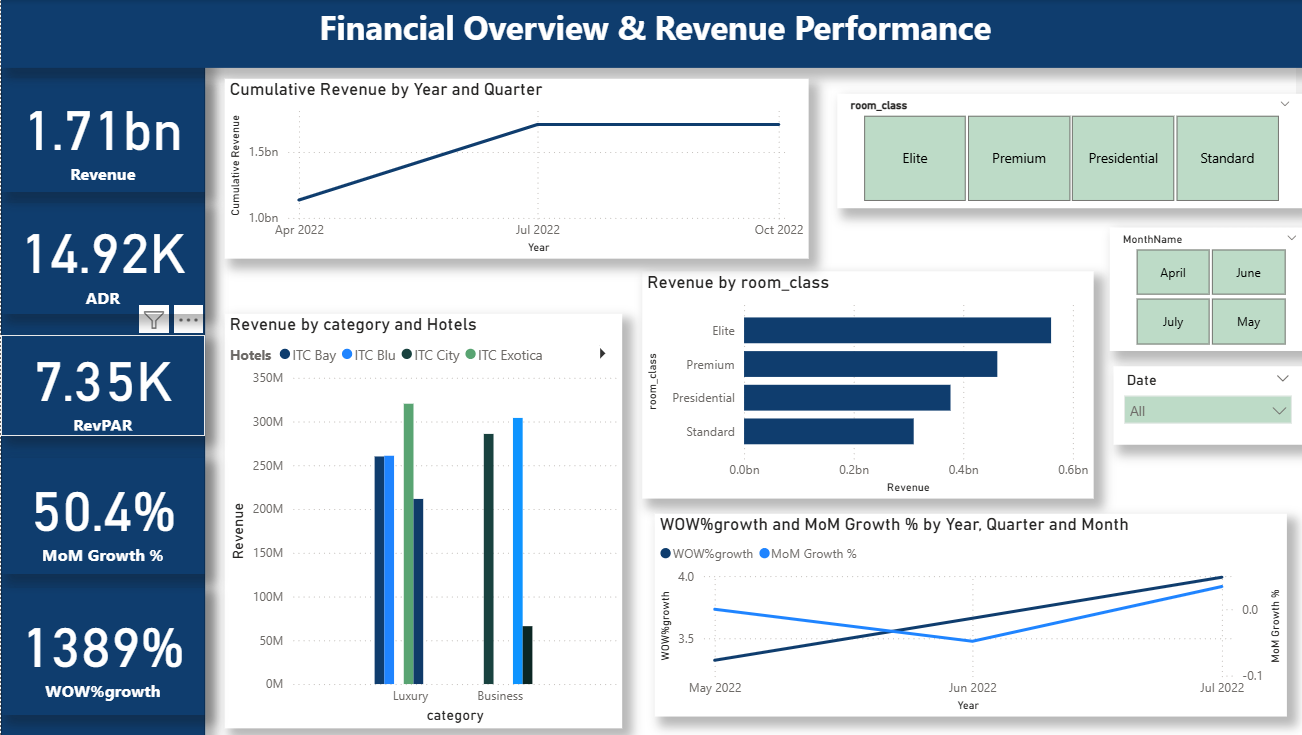

What the dashboard file says about the page in this screenshot:
{"tool":"powerbi","page":{"name":"financial overview","canvas":[1280,720],"ordinal":0},"visuals":[{"type":"shape","box":[0,4.5,199.7,715.4],"z":0},{"type":"card","fields":{"Values":["Measure Table (2).Revenue"]},"box":[0,76,199.7,111.8],"z":1000},{"type":"slicer","fields":{"Values":["calender .Year"]},"box":[1267,62.1,13.3,13.3],"z":2000},{"type":"clusteredColumnChart","fields":{"Y":["Measure Table (2).Revenue"],"Category":["hotels.category"],"Series":["hotels.property_name"]},"box":[218.9,306.9,388.9,406],"z":3000},{"type":"barChart","fields":{"Category":["rooms.room_class"],"Y":["Measure Table (2).Revenue"]},"box":[627.3,265.4,441.4,222.6],"z":4000},{"type":"card","fields":{"Values":["Measure Table (2).RevPAR"]},"box":[0,327.9,199.7,98.4],"z":5000},{"type":"card","fields":{"Values":["Measure Table (2).Avg_daily_rate"]},"box":[0,198.2,199.7,108.8],"z":6000},{"type":"textbox","box":[0,4.1,670.6,55.5],"z":7000},{"type":"textbox","box":[0,0,1280,66.4],"z":8000},{"type":"card","fields":{"Values":["Measure Table (2).MOM%growth"]},"box":[0,447.1,199.7,113.3],"z":9000},{"type":"card","fields":{"Values":["Measure Table (2).WOW%growth"]},"box":[0,575.3,199.7,125.2],"z":10000},{"type":"lineChart","fields":{"Category":["Calendar.Date.Variation.Date Hierarchy.Year","Calendar.Date.Variation.Date Hierarchy.Quarter","Calendar.Date.Variation.Date Hierarchy.Month","Calendar.Date.Variation.Date Hierarchy.Day"],"Y":["Measure Table (2).WOW%growth"],"Y2":["Measure Table (2).MoM Growth %"]},"box":[640.1,502.1,618.8,198.3],"z":11000},{"type":"slicer","fields":{"Values":["rooms.room_class"]},"box":[818.4,91.6,455.6,111.7],"z":12000},{"type":"slicer","fields":{"Values":["Calendar.MonthName"]},"box":[1084.3,222.6,195.7,121.1],"z":13000},{"type":"slicer","fields":{"Values":["Calendar.Date"]},"box":[1088.3,358.3,184.6,77],"z":14000},{"type":"lineChart","fields":{"Category":["Calendar.Date.Variation.Date Hierarchy.Year","Calendar.Date.Variation.Date Hierarchy.Quarter","Calendar.Date.Variation.Date Hierarchy.Month","Calendar.Date.Variation.Date Hierarchy.Day"],"Y":["Measure Table (2).Cumulative Revenue"]},"box":[218.9,77,571.1,176.1],"z":15000}]}

Visuals, with their boxes in screenshot pixels (x1, y1, x2, y2), scaled from the page's 1280x720 canvas onto the 1302x735 screenshot:
shape: <region>0, 5, 203, 734</region>
card - Measure Table (2).Revenue: <region>0, 78, 203, 192</region>
slicer - calender .Year: <region>1289, 63, 1301, 77</region>
clusteredColumnChart - Measure Table (2).Revenue x hotels.category: <region>223, 313, 618, 728</region>
barChart - rooms.room_class x Measure Table (2).Revenue: <region>638, 271, 1087, 498</region>
card - Measure Table (2).RevPAR: <region>0, 335, 203, 435</region>
card - Measure Table (2).Avg_daily_rate: <region>0, 202, 203, 313</region>
textbox: <region>0, 4, 682, 61</region>
textbox: <region>0, 0, 1301, 68</region>
card - Measure Table (2).MOM%growth: <region>0, 456, 203, 572</region>
card - Measure Table (2).WOW%growth: <region>0, 587, 203, 715</region>
lineChart - Calendar.Date.Variation.Date Hierarchy.Year x Calendar.Date.Variation.Date Hierarchy.Quarter: <region>651, 513, 1281, 715</region>
slicer - rooms.room_class: <region>832, 94, 1296, 208</region>
slicer - Calendar.MonthName: <region>1103, 227, 1301, 351</region>
slicer - Calendar.Date: <region>1107, 366, 1295, 444</region>
lineChart - Calendar.Date.Variation.Date Hierarchy.Year x Calendar.Date.Variation.Date Hierarchy.Quarter: <region>223, 79, 804, 258</region>
